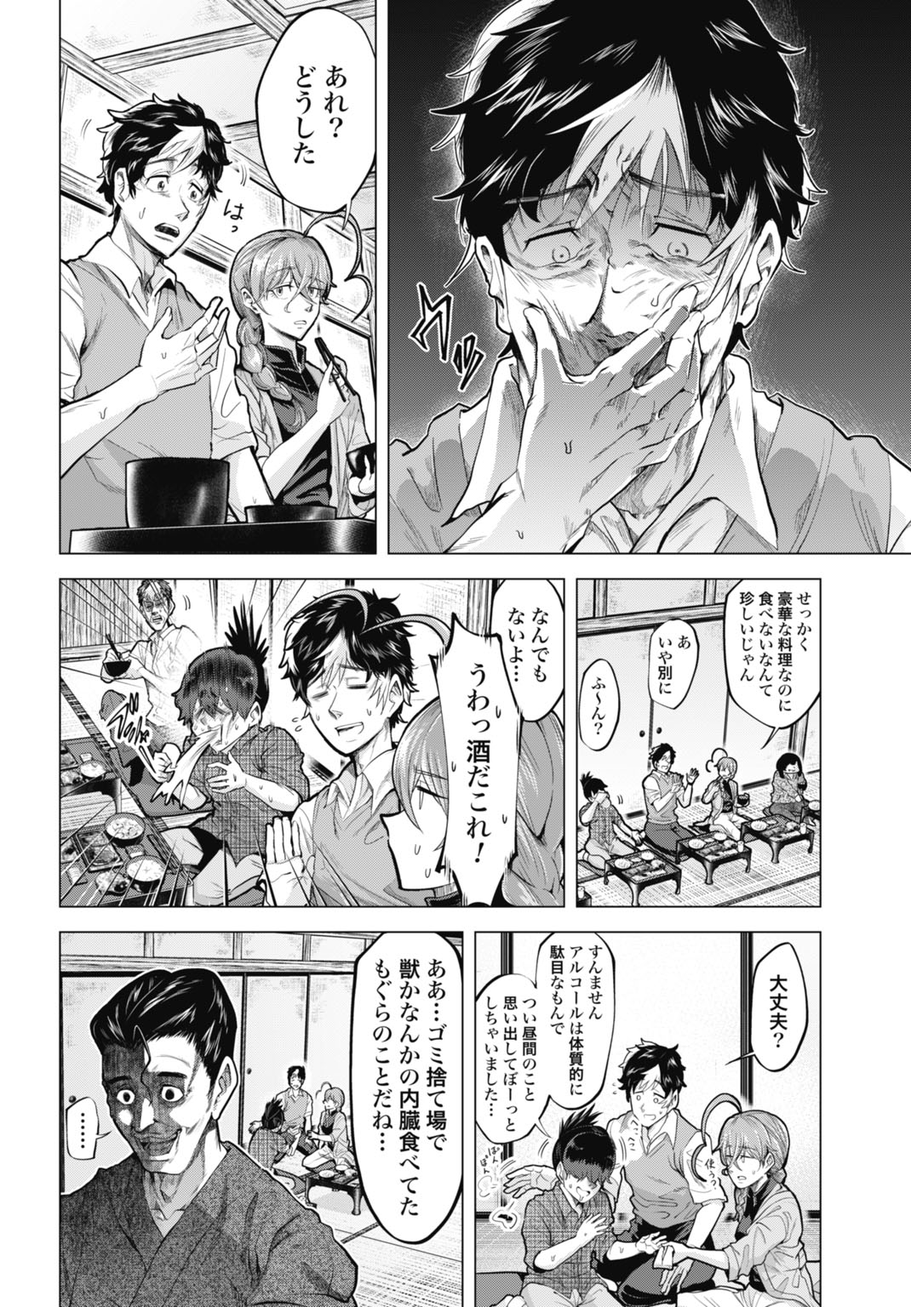bubbles: (425, 580, 563, 907), (349, 933, 465, 1251), (476, 933, 622, 1150), (254, 3, 381, 234), (720, 580, 820, 753), (738, 939, 810, 1081), (646, 612, 703, 714), (577, 656, 622, 759)
